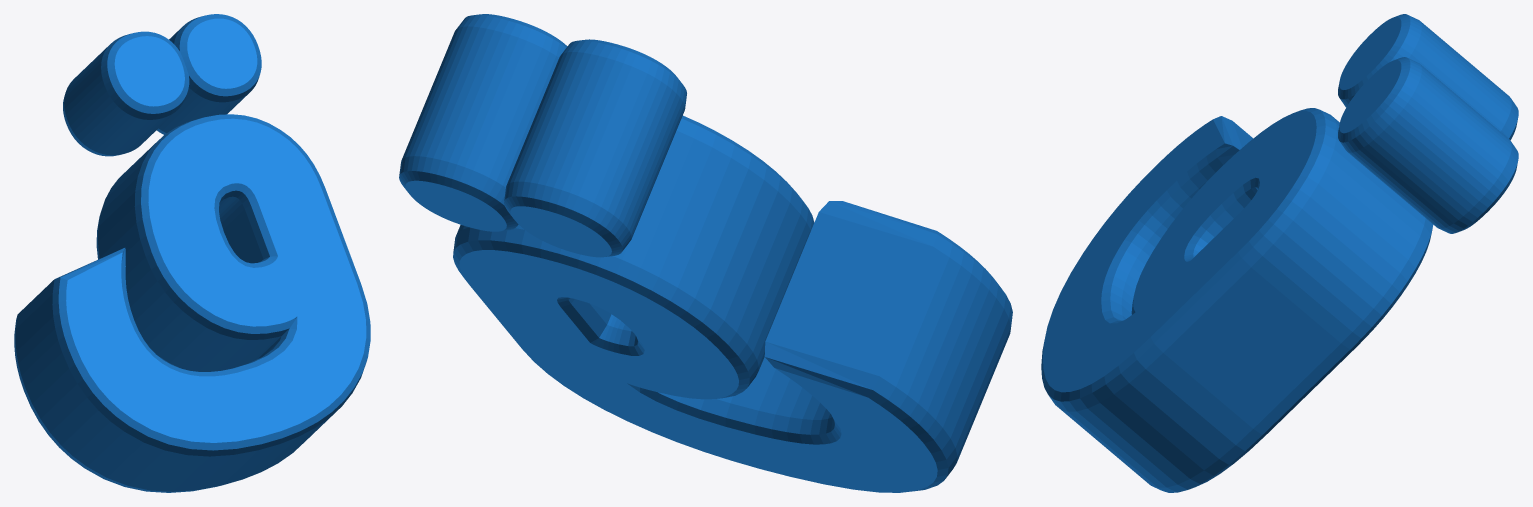
The picture shows the model from 3 angles, left to right: view 1: azimuth 30°, elevation 25°; view 2: azimuth 150°, elevation 25°; view 3: azimuth 270°, elevation 25°; orthographic projection. The views are drawn at different scales.
Parts seen in each view (by area): view 1: letter; view 2: letter; view 3: letter.
Part boxes in pixels (box(x1,y1,x2,y2)): letter: box(14, 14, 370, 492); letter: box(399, 14, 1012, 492); letter: box(1041, 14, 1518, 492).
Size of the model in its own units: 0.945 by 1.13 by 1.09.
